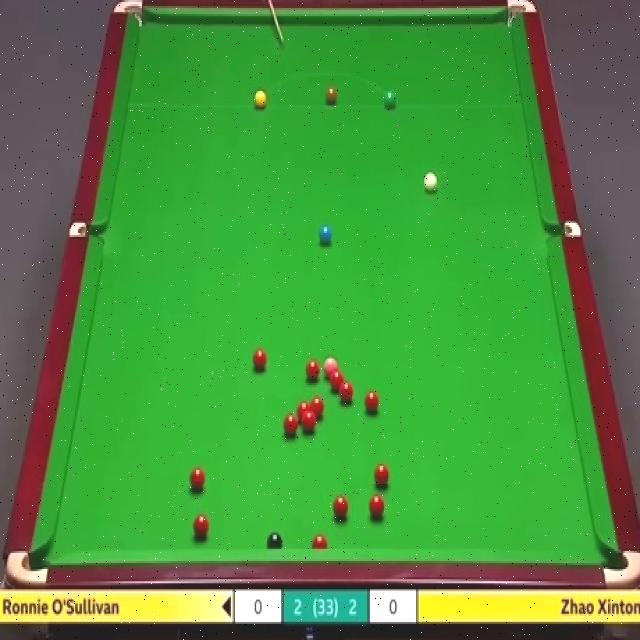black-ball: (266, 528, 283, 552)
blue-ball: (319, 226, 333, 245)
brown-ball: (325, 88, 337, 108)
green-ball: (382, 88, 398, 110)
pink-ball: (323, 354, 338, 377)
red-ball: (368, 492, 386, 520), (372, 462, 390, 489), (188, 466, 206, 491), (193, 512, 209, 538), (333, 493, 349, 519), (251, 347, 267, 372), (339, 382, 354, 407), (305, 357, 320, 382), (283, 413, 298, 436), (302, 408, 316, 432), (365, 390, 379, 414), (311, 396, 326, 418), (329, 370, 344, 390), (311, 534, 327, 550), (297, 401, 311, 418)
white-ball: (424, 170, 439, 194)
yellow-ball: (254, 87, 266, 109)
